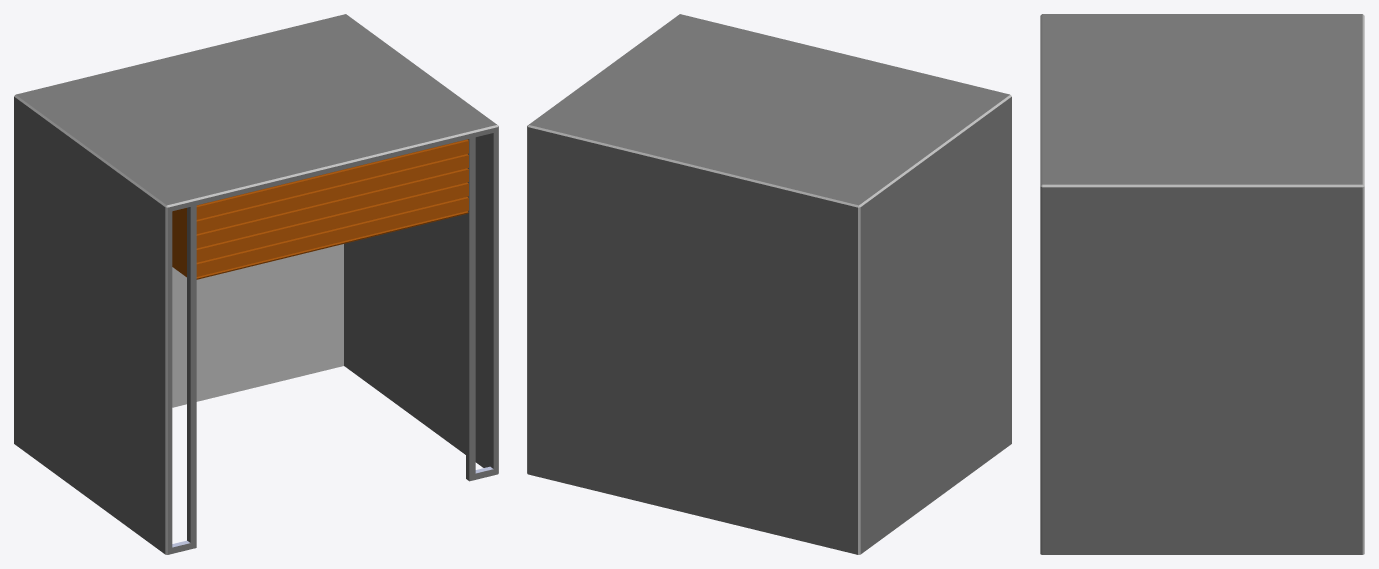
Rendered from Kucica_za_punjenje.obj.
The picture shows the model from 3 angles, left to right: view 1: azimuth 30°, elevation 25°; view 2: azimuth 150°, elevation 25°; view 3: azimuth 270°, elevation 25°; orthographic projection. The views are drawn at different scales.
Visible parts, largest first — view 1: Solid1; view 2: Solid1; view 3: Solid1.
Part boxes in pixels (<box>): Solid1: <box>14,14,498,554</box>; Solid1: <box>527,14,1011,554</box>; Solid1: <box>1040,14,1364,554</box>.
Size of the model in its own units: 2200 by 2200 by 1750.
